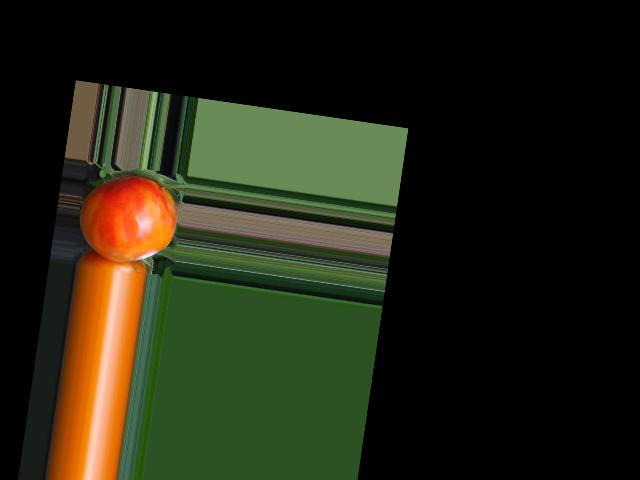tomato: (74, 169, 182, 268)
